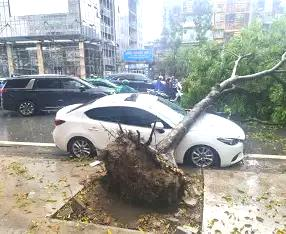ROAD_OBSTACLE: (80, 50, 286, 234)
